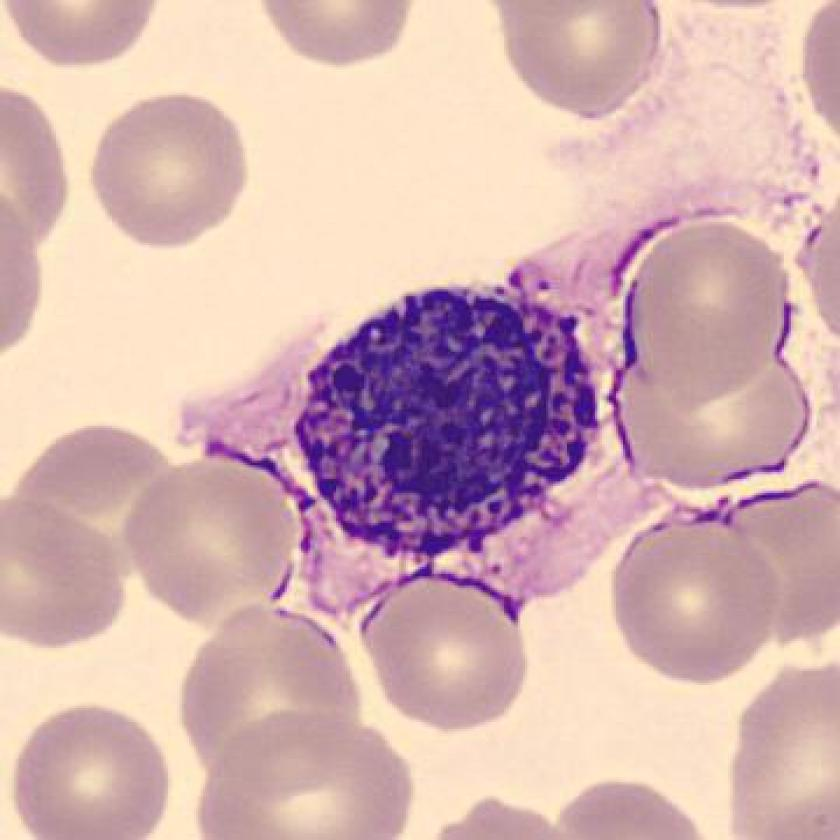basophil: (281, 274, 615, 577)
